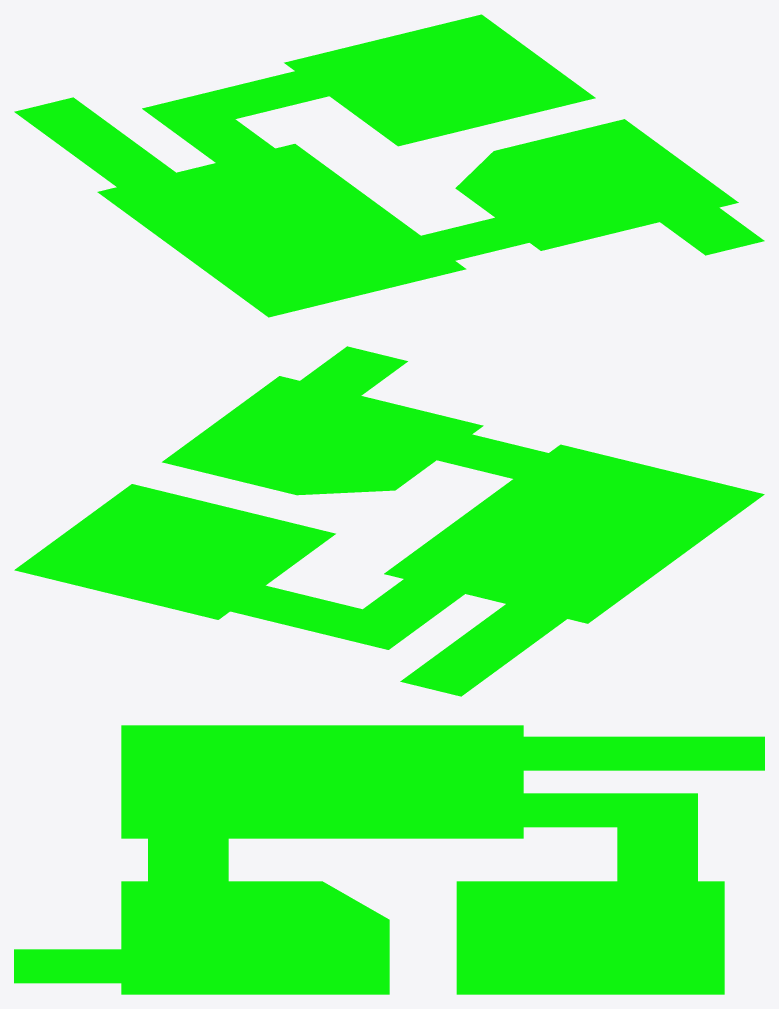
Rendered from s05a_ic3-floor.glb.
3 renders of one model, top to bottom at view 1: azimuth 30°, elevation 25°; view 2: azimuth 150°, elevation 25°; view 3: azimuth 270°, elevation 25°, orthographic. The views are drawn at different scales.
Parts seen in each view (by area): view 1: collision_floor-colonly; view 2: collision_floor-colonly; view 3: collision_floor-colonly.
Boxes of the visible parts, left/top/right/bottom form: collision_floor-colonly: left=14, top=14, right=764, bottom=317; collision_floor-colonly: left=14, top=346, right=764, bottom=696; collision_floor-colonly: left=14, top=725, right=764, bottom=994.
Size of the model in its own units: 47.5 by 0 by 56.
